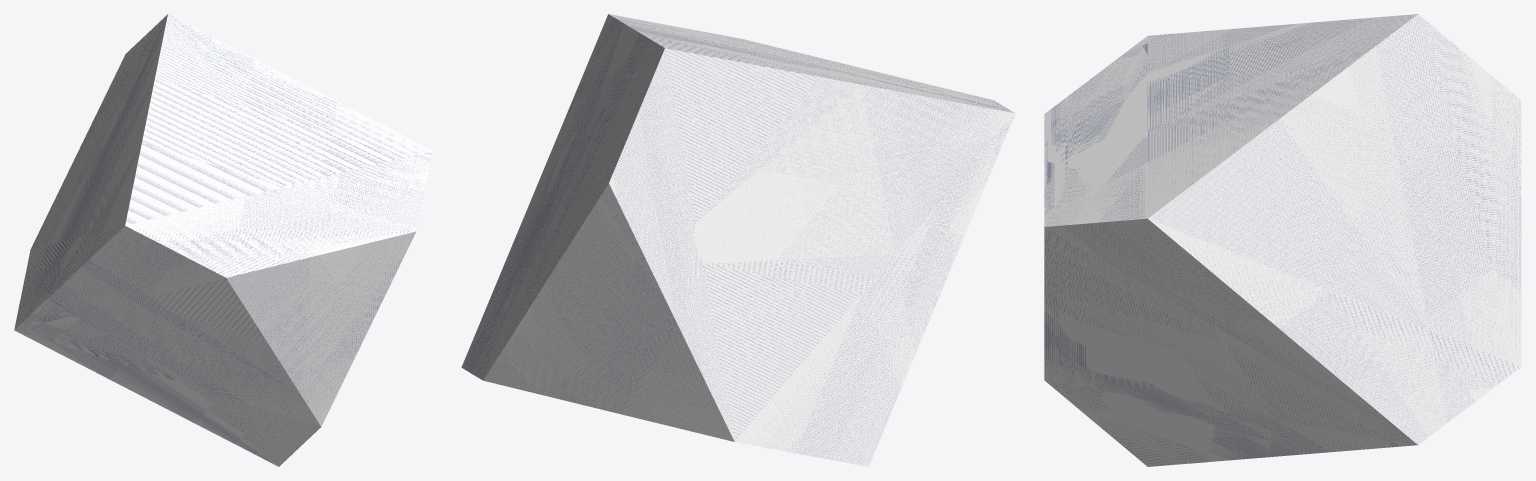
Rendered from DuereresSolid.fbx.
3 views of the same model, side by side, from view 1: azimuth 30°, elevation 25°; view 2: azimuth 150°, elevation 25°; view 3: azimuth 270°, elevation 25° (orthographic). The views are drawn at different scales.
Visible parts, largest first — view 1: SketchUp; view 2: SketchUp; view 3: SketchUp.
Boxes of the visible parts, x1,y1,x2,y2 form: SketchUp: (14,14,432,466); SketchUp: (461,14,1015,466); SketchUp: (1044,14,1521,466).
Bounding box in the file's own units: 121 × 140 × 134.
